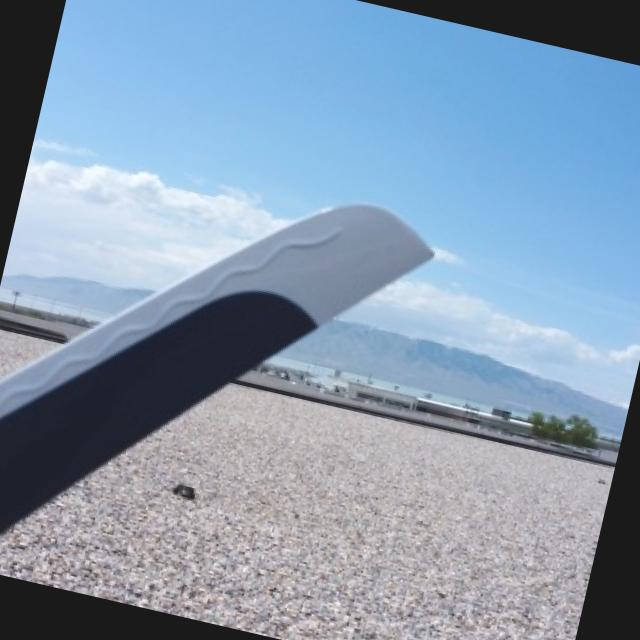healthy: (0, 202, 428, 529)
